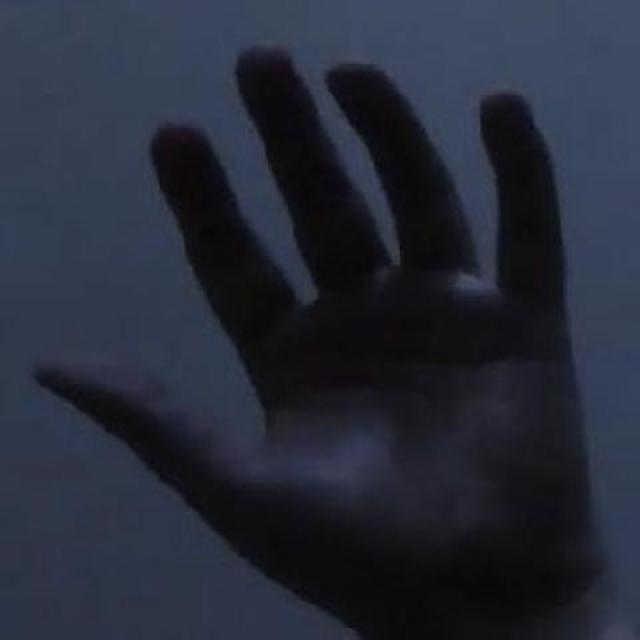Open Hand: (35, 45, 626, 640)
